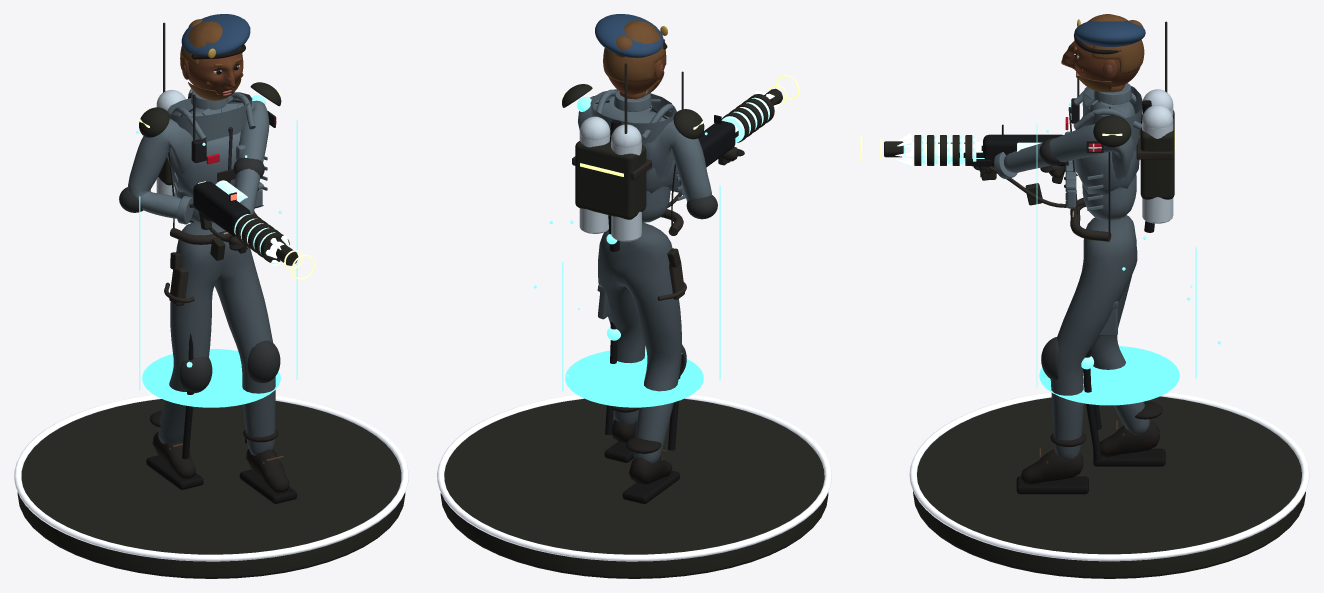
The model's file is frost_std.glb.
The picture shows the model from 3 angles, left to right: view 1: azimuth 30°, elevation 25°; view 2: azimuth 150°, elevation 25°; view 3: azimuth 270°, elevation 25°; orthographic projection.
Parts seen in each view (by area): view 1: fod_net, menneske_net, op1_net, hoved_net, op4.001_net, vaaben_net, op3.001_net, op4_net; view 2: fod_net, menneske_net, op3.001_net, op4.001_net, hoved_net, op1_net, vaaben_net, op4_net; view 3: fod_net, menneske_net, op4.001_net, op1_net, hoved_net, vaaben_net, op3.001_net, op4_net.
Part boxes in pixels (x1,y1,x2,y2): fod_net: (14, 394, 408, 578); menneske_net: (128, 88, 297, 503); op1_net: (119, 93, 280, 393); hoved_net: (180, 14, 250, 100); op4.001_net: (136, 120, 297, 407); vaaben_net: (193, 180, 292, 265); op3.001_net: (138, 22, 281, 185); op4_net: (182, 93, 265, 459); fod_net: (437, 394, 831, 578); menneske_net: (572, 89, 744, 504); op3.001_net: (561, 63, 704, 219); op4.001_net: (534, 132, 720, 407); hoved_net: (595, 14, 667, 95); op1_net: (596, 71, 717, 376); vaaben_net: (698, 91, 780, 167); op4_net: (577, 97, 684, 450); fod_net: (909, 392, 1309, 578); menneske_net: (973, 83, 1173, 494); op4.001_net: (1036, 125, 1220, 405); op1_net: (1039, 78, 1142, 379); hoved_net: (1061, 14, 1145, 92); vaaben_net: (895, 133, 1065, 183); op3.001_net: (1093, 21, 1175, 199); op4_net: (1081, 100, 1154, 461).
Size of the model in its own units: 1.94 by 2.57 by 2.17.
